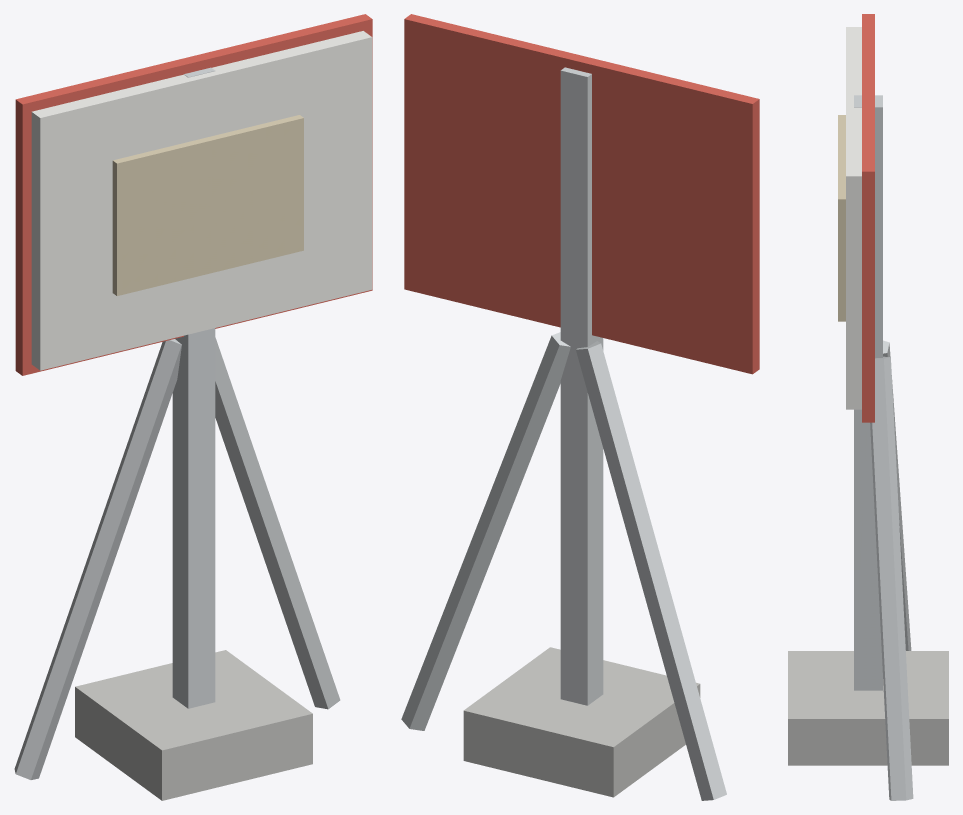
File: radio-telescope-array-and-field-station-warning-sign-4ba75014__37662.glb
3 renders of one model, left to right at view 1: azimuth 30°, elevation 25°; view 2: azimuth 150°, elevation 25°; view 3: azimuth 270°, elevation 25°, orthographic. The views are drawn at different scales.
Visible parts, largest first — view 1: warning-sign; view 2: warning-sign; view 3: warning-sign.
Boxes of the visible parts, left/top/right/bottom form: warning-sign: left=14, top=14, right=372, bottom=800; warning-sign: left=401, top=14, right=759, bottom=800; warning-sign: left=788, top=14, right=948, bottom=800.
Size of the model in its own units: 1.16 by 2.2 by 0.5.
